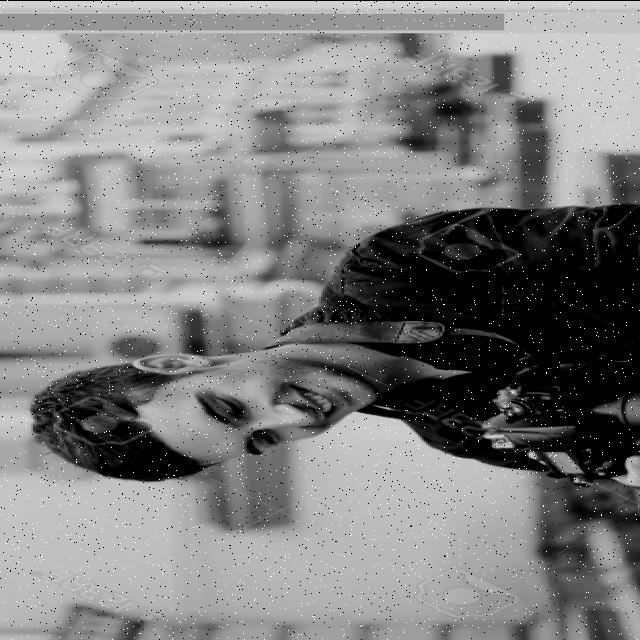face_no_mask: (138, 351, 376, 468)
